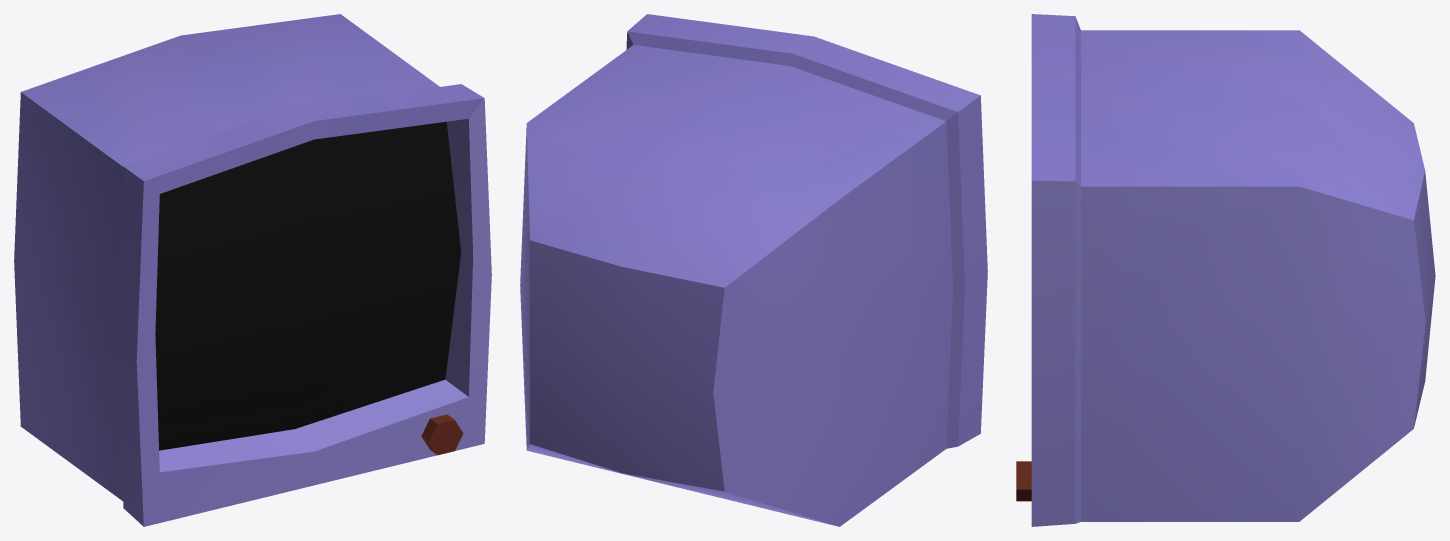
Rendered from television.fbx.
3 renders of one model, left to right at view 1: azimuth 30°, elevation 25°; view 2: azimuth 150°, elevation 25°; view 3: azimuth 270°, elevation 25°, orthographic. The views are drawn at different scales.
Visible parts, largest first — view 1: tv; view 2: tv; view 3: tv.
Part boxes in pixels (x1,y1,x2,y2): tv: (14, 14, 491, 526); tv: (520, 14, 987, 526); tv: (1016, 14, 1435, 526).
Size of the model in its own units: 30.44 by 29.83 by 31.05.
Materials: 1 (1 with a texture image).
